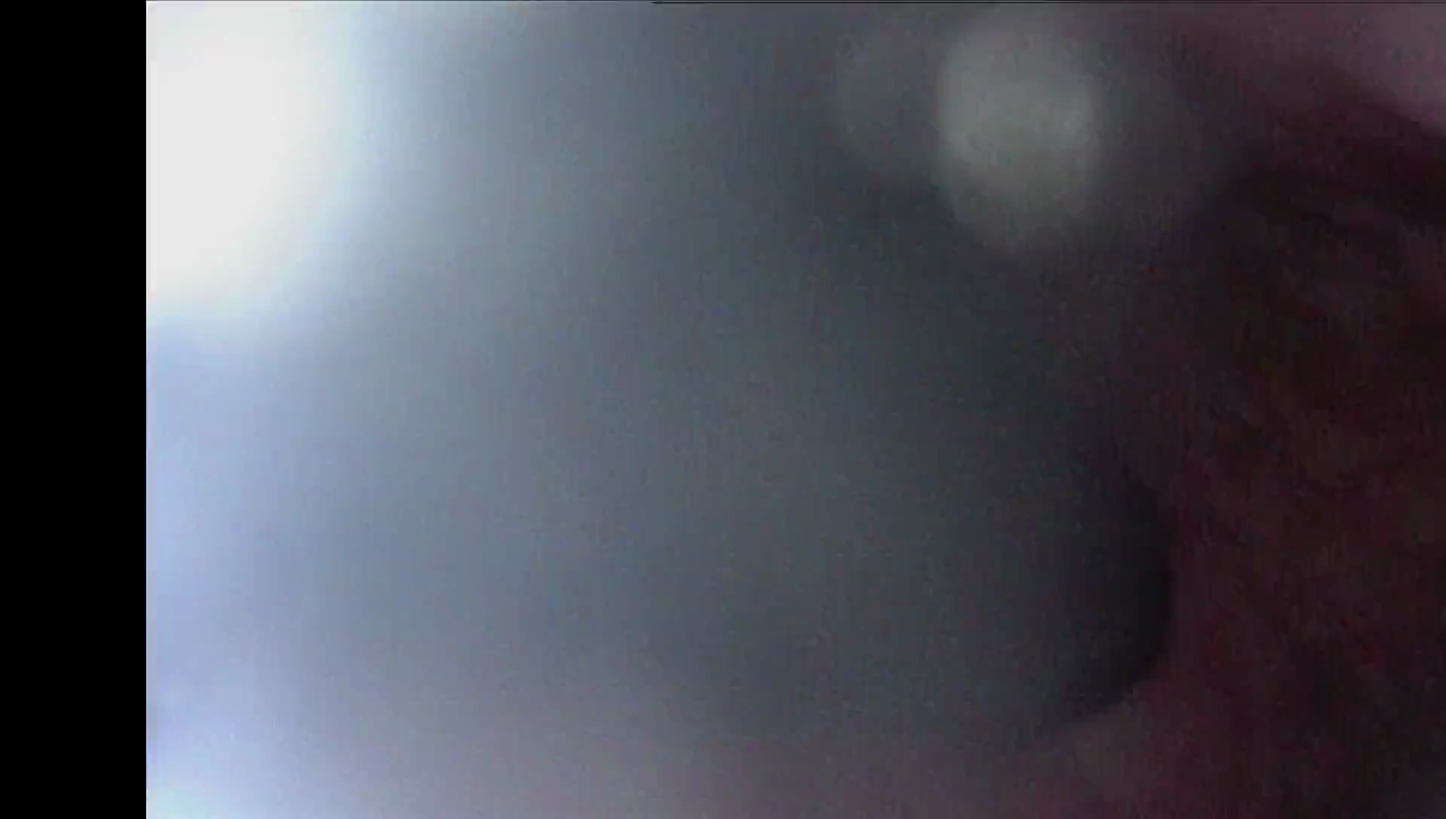next: (901, 349, 1200, 757), (1192, 108, 1446, 260)
